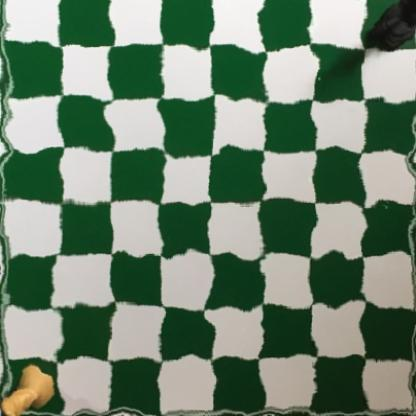black-king: (371, 0, 416, 49)
white-king: (1, 365, 57, 416)
